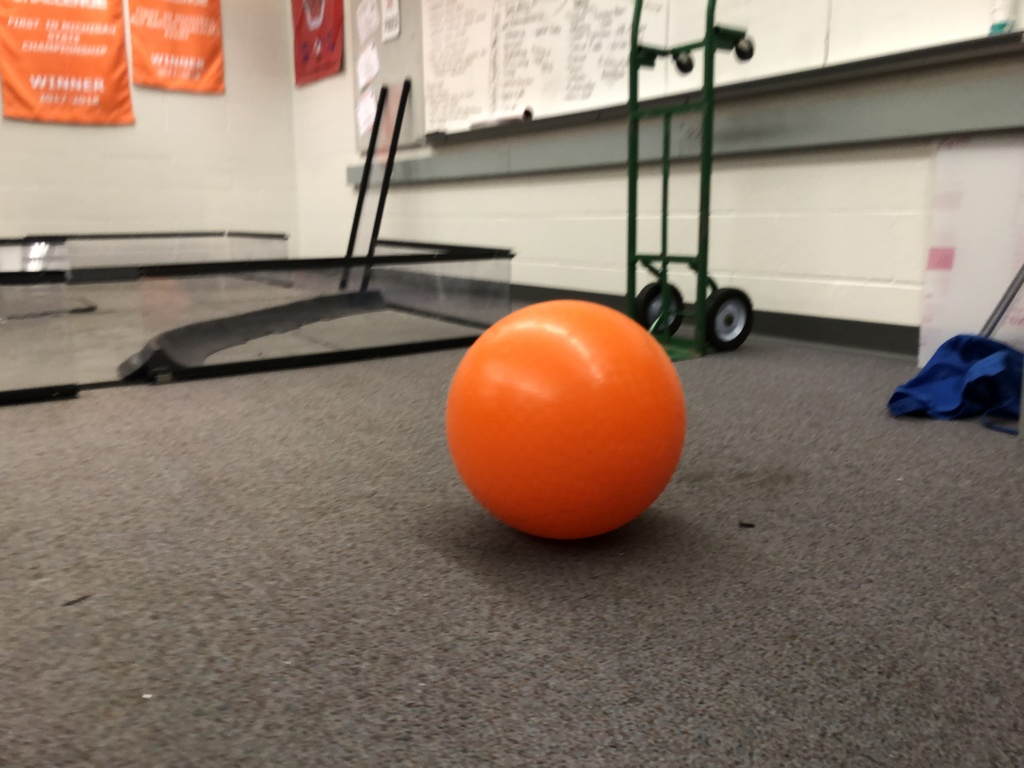cargo: (438, 288, 692, 550)
